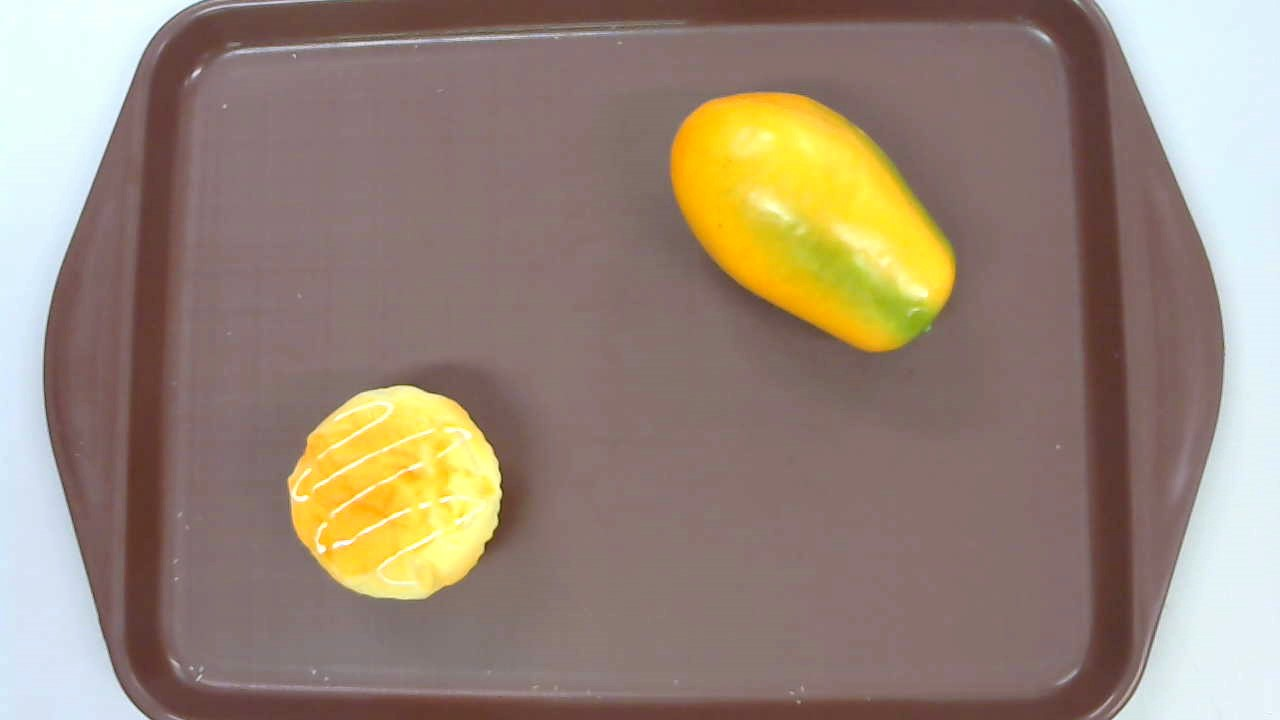cupcake: (288, 385, 501, 602)
papya: (669, 91, 957, 353)
